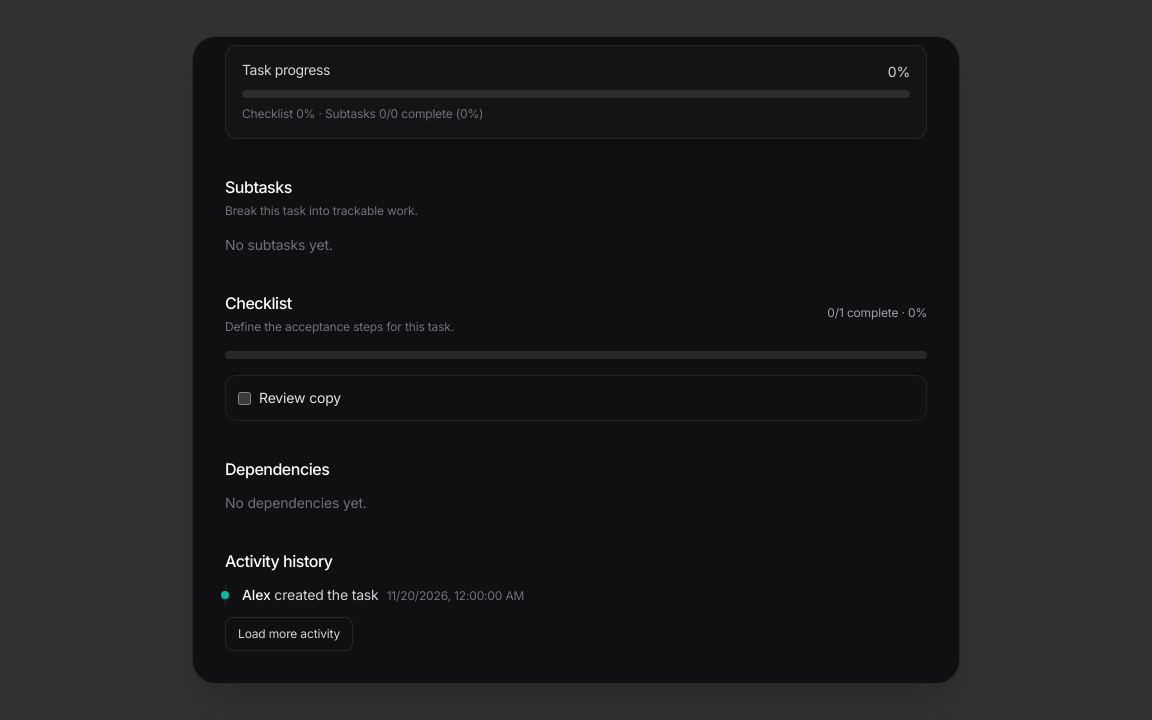
Test case: task details GraphQL integration › loads more activity without duplicating existing entries
This screenshot has width=1152, height=720.
(page scrolled)
Step 1. Click the button "Load more activity" → (289, 634), box [225, 617, 353, 651]
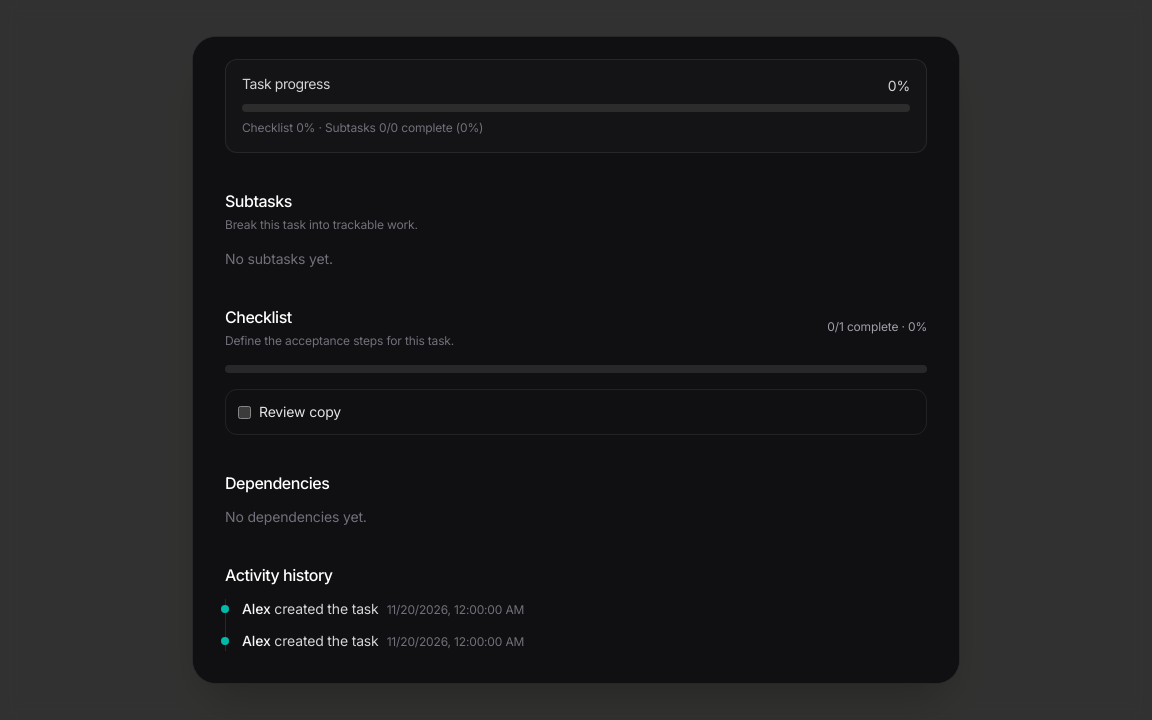
Check: the text "Alex" is shown 2 times, box [242, 600, 270, 617]; [242, 632, 270, 649]
Check: the button "Load more activity" is gone
